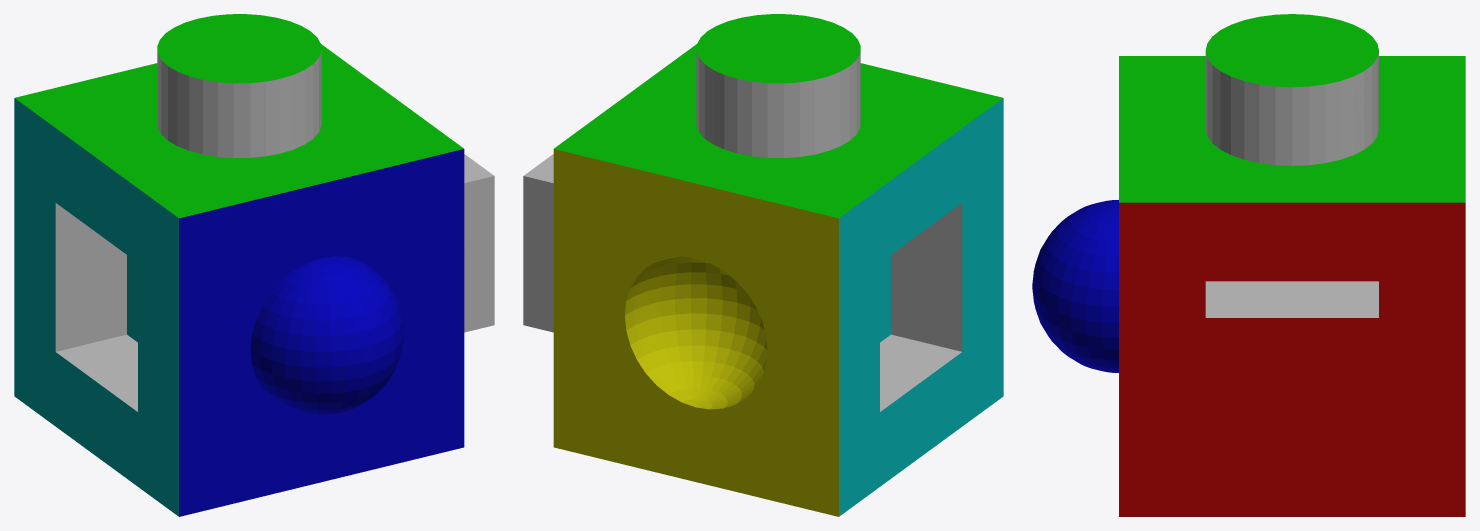
The model's file is OrientationCube.dae.
3 renders of one model, left to right at view 1: azimuth 30°, elevation 25°; view 2: azimuth 150°, elevation 25°; view 3: azimuth 270°, elevation 25°, orthographic. The views are drawn at different scales.
Parts seen in each view (by area): view 1: Cube; view 2: Cube; view 3: Cube.
Boxes of the visible parts, x1,y1,x2,y2 form: Cube: [14, 14, 494, 516]; Cube: [523, 14, 1003, 516]; Cube: [1032, 14, 1465, 516].
Size of the model in its own units: 1.25 by 1.25 by 1.25.
